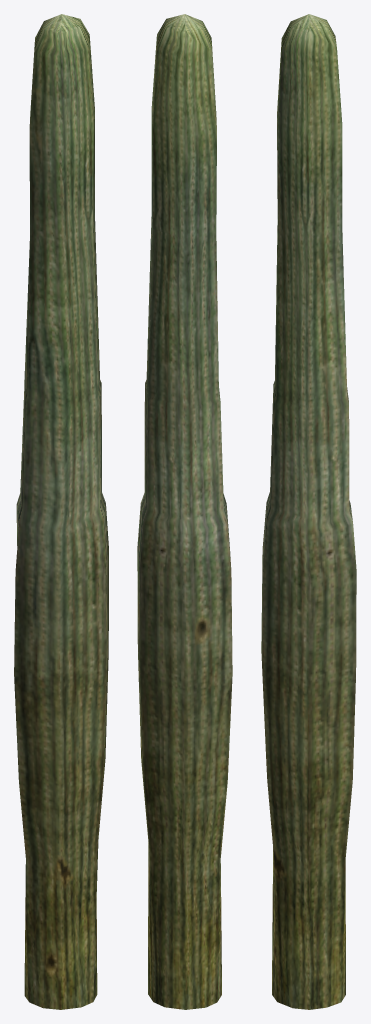
The model's file is DesertPlant01B.FBX.
The picture shows the model from 3 angles, left to right: view 1: azimuth 30°, elevation 25°; view 2: azimuth 150°, elevation 25°; view 3: azimuth 330°, elevation 25°; orthographic projection.
Parts seen in each view (by area): view 1: DesertPlant01B; view 2: DesertPlant01B; view 3: DesertPlant01B.
Part boxes in pixels (x1,y1,x2,y2): DesertPlant01B: (14, 14, 108, 1009); DesertPlant01B: (137, 14, 232, 1009); DesertPlant01B: (261, 14, 356, 1009).
Bounding box in the file's own units: 2.01 × 19.8 × 1.6.
Materials: 1 (1 with a texture image).
